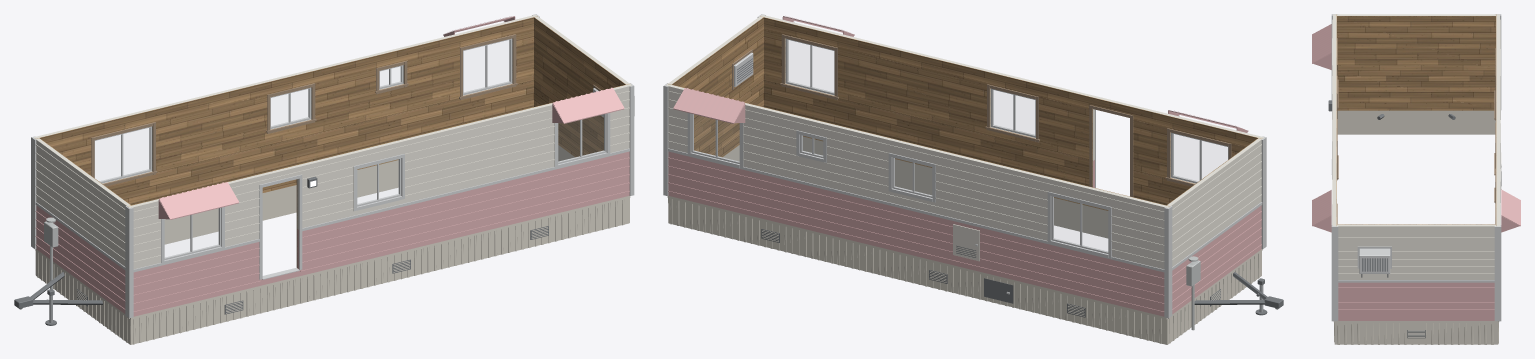
File: trailer_c.glb
The picture shows the model from 3 angles, left to right: view 1: azimuth 30°, elevation 25°; view 2: azimuth 150°, elevation 25°; view 3: azimuth 270°, elevation 25°; orthographic projection. The views are drawn at different scales.
Parts seen in each view (by area): view 1: trailer_c_panel, trailer_c_tr_p, trailer_c_tr_w, trailer_c_skirt, trailer_c_glass, trailer_c_alu, trailer_c_trim, trailer_c_steel_d, trailer_c_galv; view 2: trailer_c_panel, trailer_c_tr_w, trailer_c_tr_p, trailer_c_skirt, trailer_c_alu, trailer_c_glass, trailer_c_trim, trailer_c_steel_d, trailer_c_galv; view 3: trailer_c_panel, trailer_c_tr_w, trailer_c_tr_p, trailer_c_skirt, trailer_c_alu, trailer_c_steel_d, trailer_c_trim.
Part boxes in pixels (<box>): trailer_c_panel: <box>36,16,628,267</box>; trailer_c_tr_p: <box>35,16,629,316</box>; trailer_c_tr_w: <box>33,14,631,269</box>; trailer_c_skirt: <box>35,145,630,344</box>; trailer_c_glass: <box>47,40,603,256</box>; trailer_c_alu: <box>31,14,634,318</box>; trailer_c_trim: <box>91,34,601,267</box>; trailer_c_steel_d: <box>14,114,603,325</box>; trailer_c_galv: <box>44,217,58,289</box>; trailer_c_panel: <box>668,16,1261,210</box>; trailer_c_tr_w: <box>665,14,1264,269</box>; trailer_c_tr_p: <box>668,16,1261,316</box>; trailer_c_skirt: <box>667,136,1262,344</box>; trailer_c_alu: <box>663,14,1266,318</box>; trailer_c_glass: <box>694,40,1227,264</box>; trailer_c_trim: <box>732,34,1231,196</box>; trailer_c_steel_d: <box>737,58,1283,317</box>; trailer_c_galv: <box>1186,256,1200,330</box>; trailer_c_panel: <box>1336,14,1496,225</box>; trailer_c_tr_w: <box>1332,14,1501,279</box>; trailer_c_tr_p: <box>1312,24,1520,320</box>; trailer_c_skirt: <box>1333,110,1499,344</box>; trailer_c_alu: <box>1331,14,1501,321</box>; trailer_c_steel_d: <box>1328,100,1501,338</box>; trailer_c_trim: <box>1337,38,1495,224</box>.
Size of the model in its own units: 13.98 by 3.23 by 5.
Materials: 12 (1 with a texture image).
